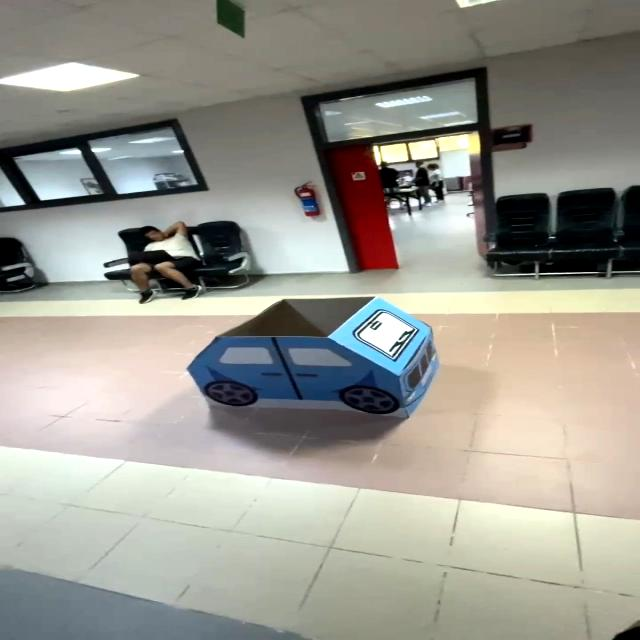blue_car: (158, 291, 451, 431)
